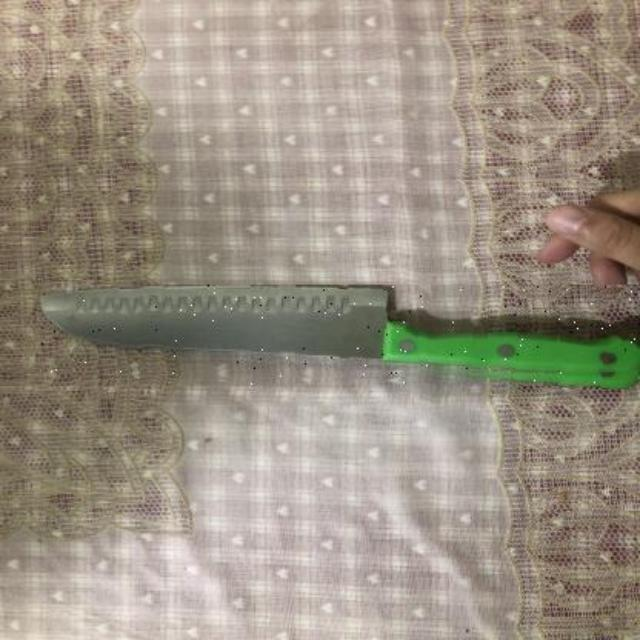Knife: (36, 285, 640, 385)
